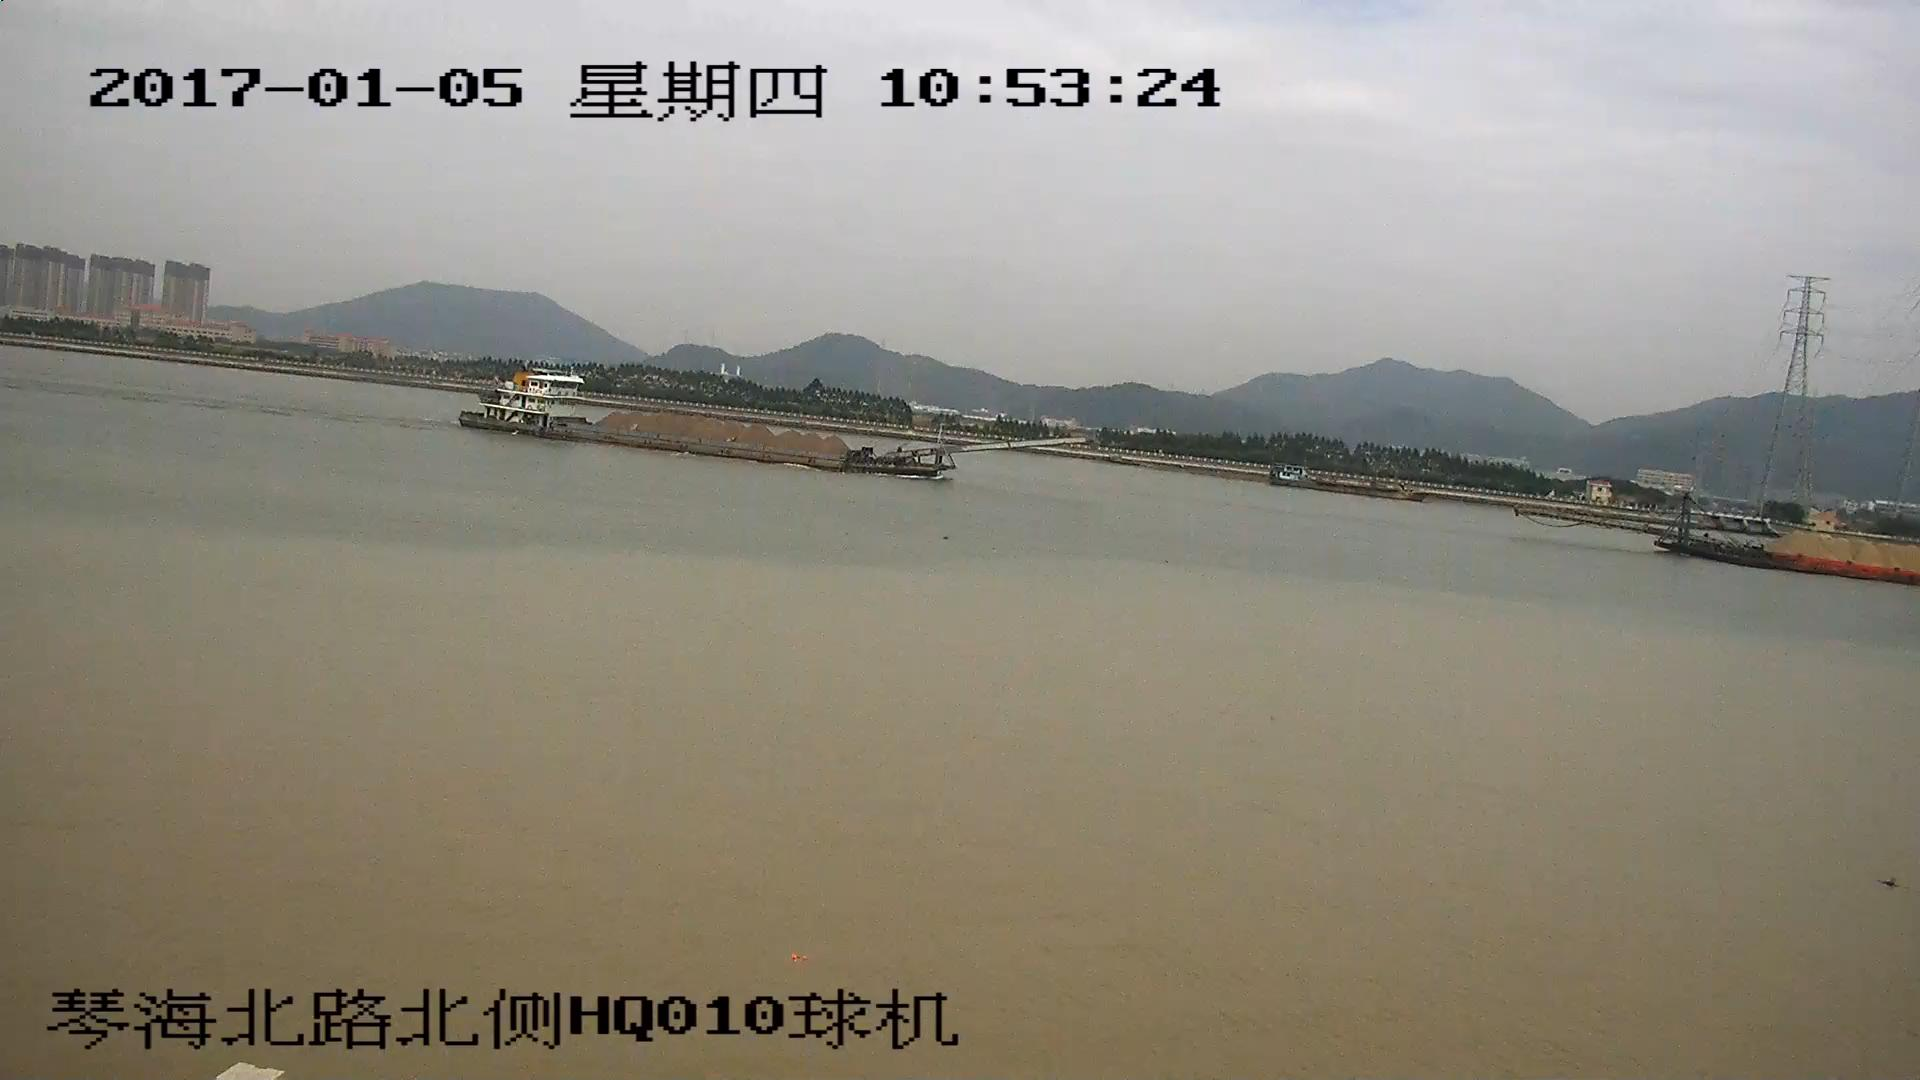ore carrier: (462, 370, 1077, 482), (1528, 497, 1920, 588)
